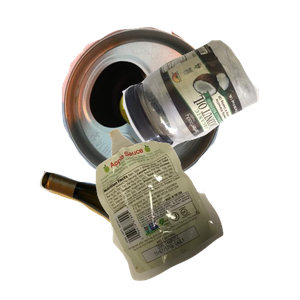glass: (37, 168, 242, 300)
metal: (59, 10, 273, 189)
plastic: (120, 37, 300, 185)
trash: (93, 126, 300, 300)
